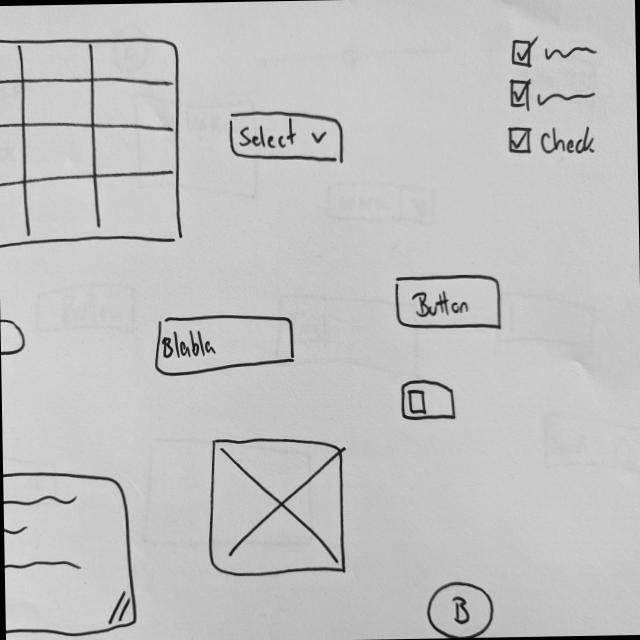button: (392, 270, 506, 334)
checkbox: (508, 75, 600, 111), (507, 122, 598, 158), (508, 35, 598, 69)
icon-button: (424, 578, 496, 638)
image: (206, 434, 348, 580)
input: (152, 312, 296, 378)
select: (227, 106, 348, 170)
table: (0, 29, 186, 252)
textbox: (2, 466, 138, 638)
toggle: (398, 376, 460, 426), (0, 315, 25, 357)
